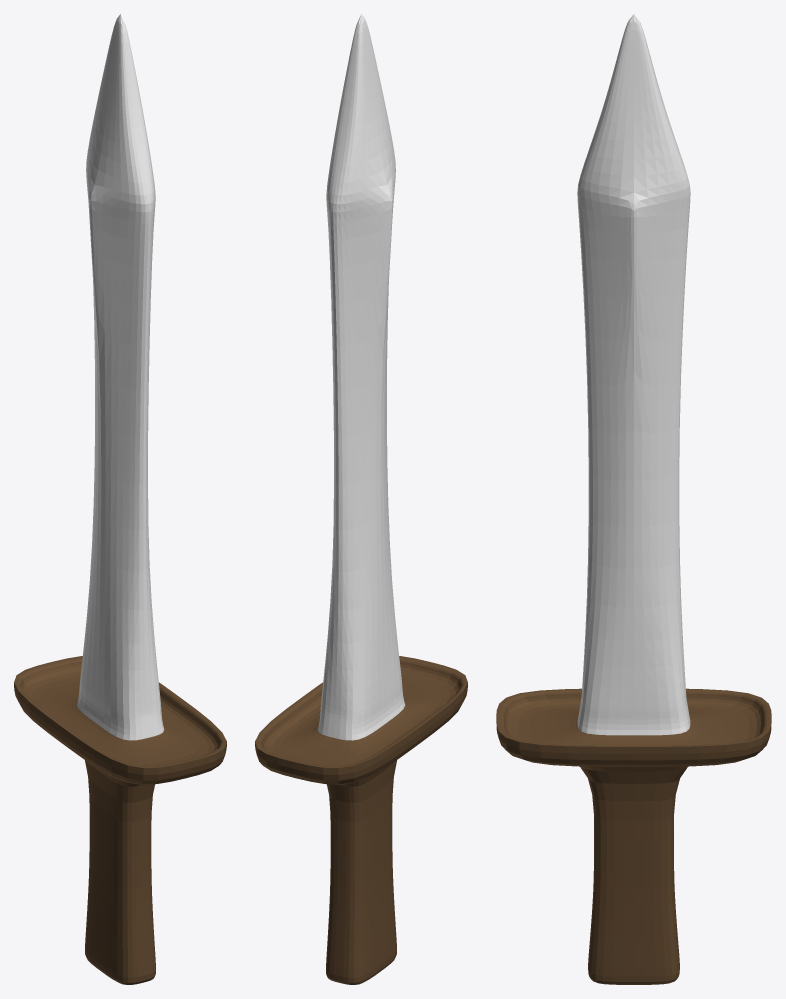
Rendered from sword1.fbx.
The picture shows the model from 3 angles, left to right: view 1: azimuth 30°, elevation 25°; view 2: azimuth 150°, elevation 25°; view 3: azimuth 270°, elevation 25°; orthographic projection.
Visible parts, largest first — view 1: sword, handle; view 2: sword, handle; view 3: sword, handle.
Part boxes in pixels (box(x1,y1,x2,y2)): sword: box(76, 14, 164, 740); handle: box(14, 656, 226, 984); sword: box(317, 14, 405, 740); handle: box(255, 656, 467, 984); sword: box(577, 14, 690, 735); handle: box(496, 688, 771, 984).
Size of the model in its own units: 272 by 540 by 2087.
